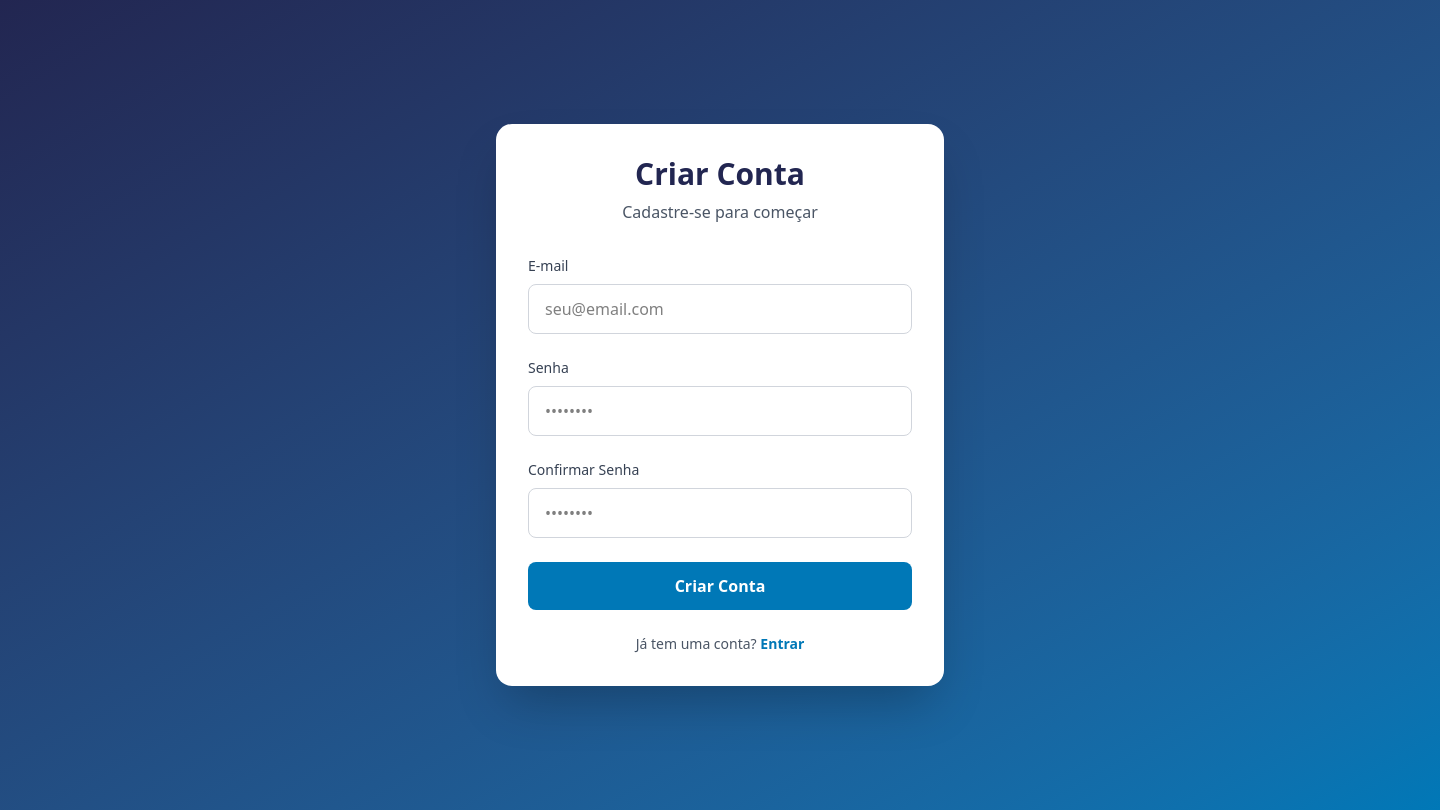
Register Page › validates password length
Type "test@test.com" into the field labelled "E-mail" at (720, 309), box [528,284,912,334]
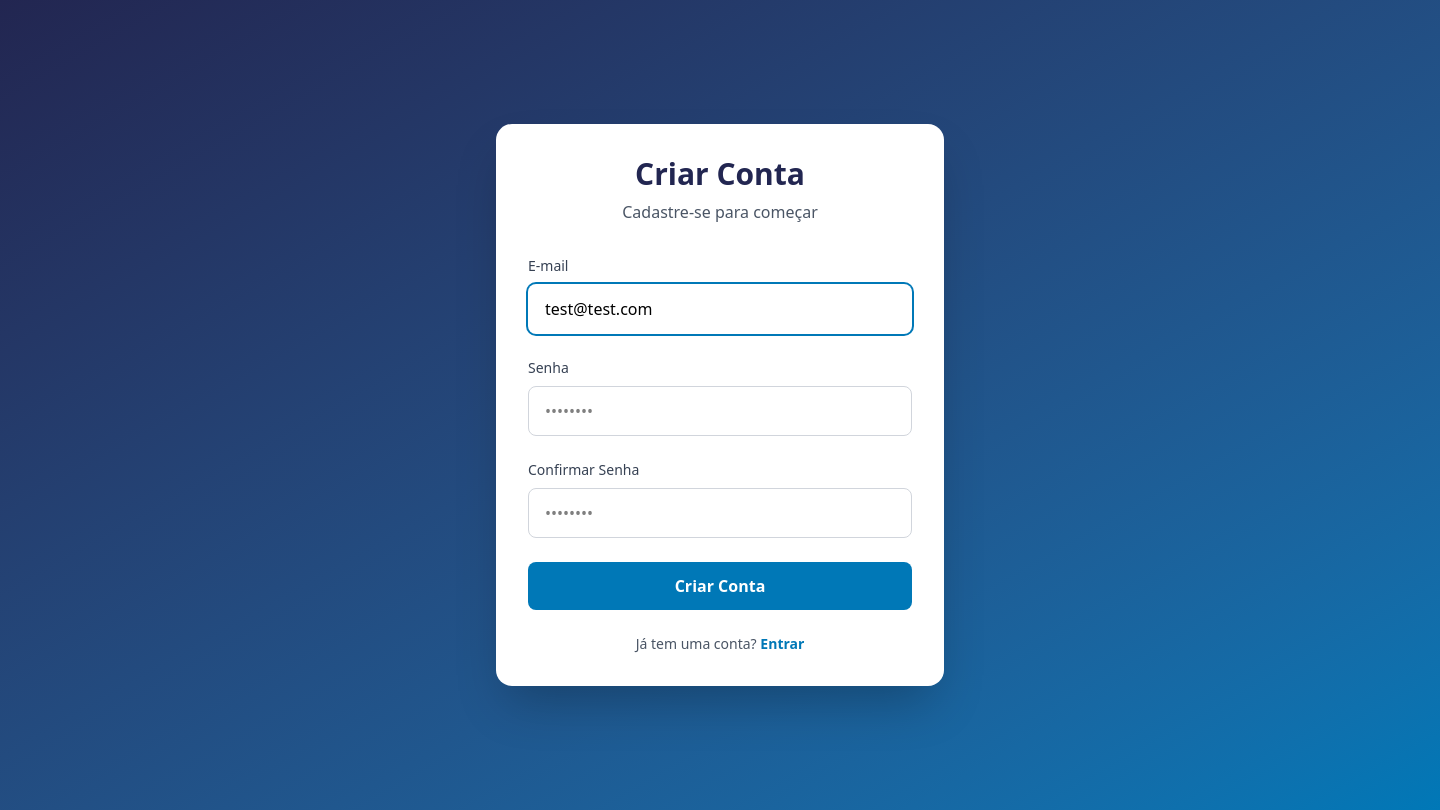
Type "12345" into the password field with placeholder "••••••••" at (720, 411), box [528,386,912,436]
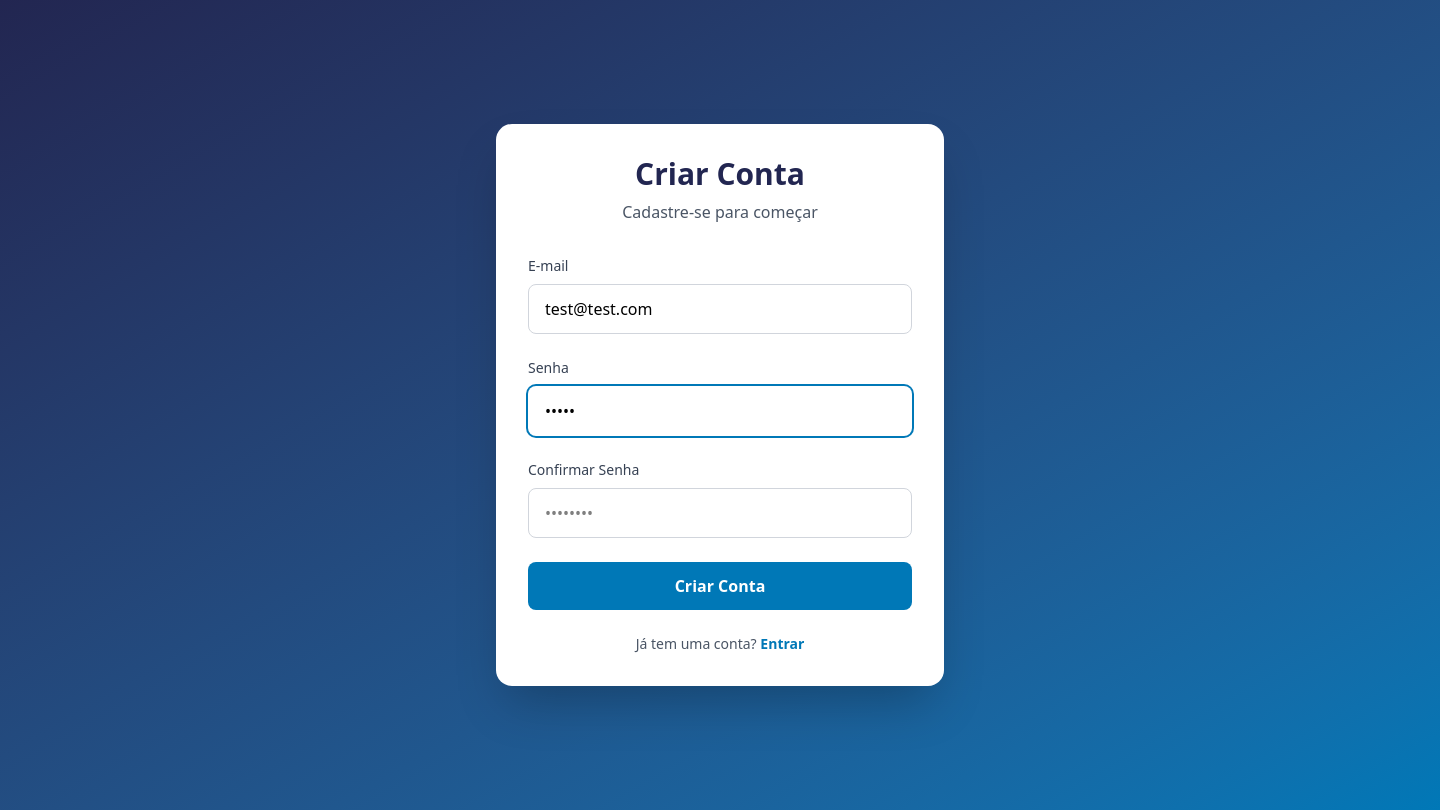
Type "12345" into the password field labelled "Confirmar Senha" at (720, 513), box [528,488,912,538]
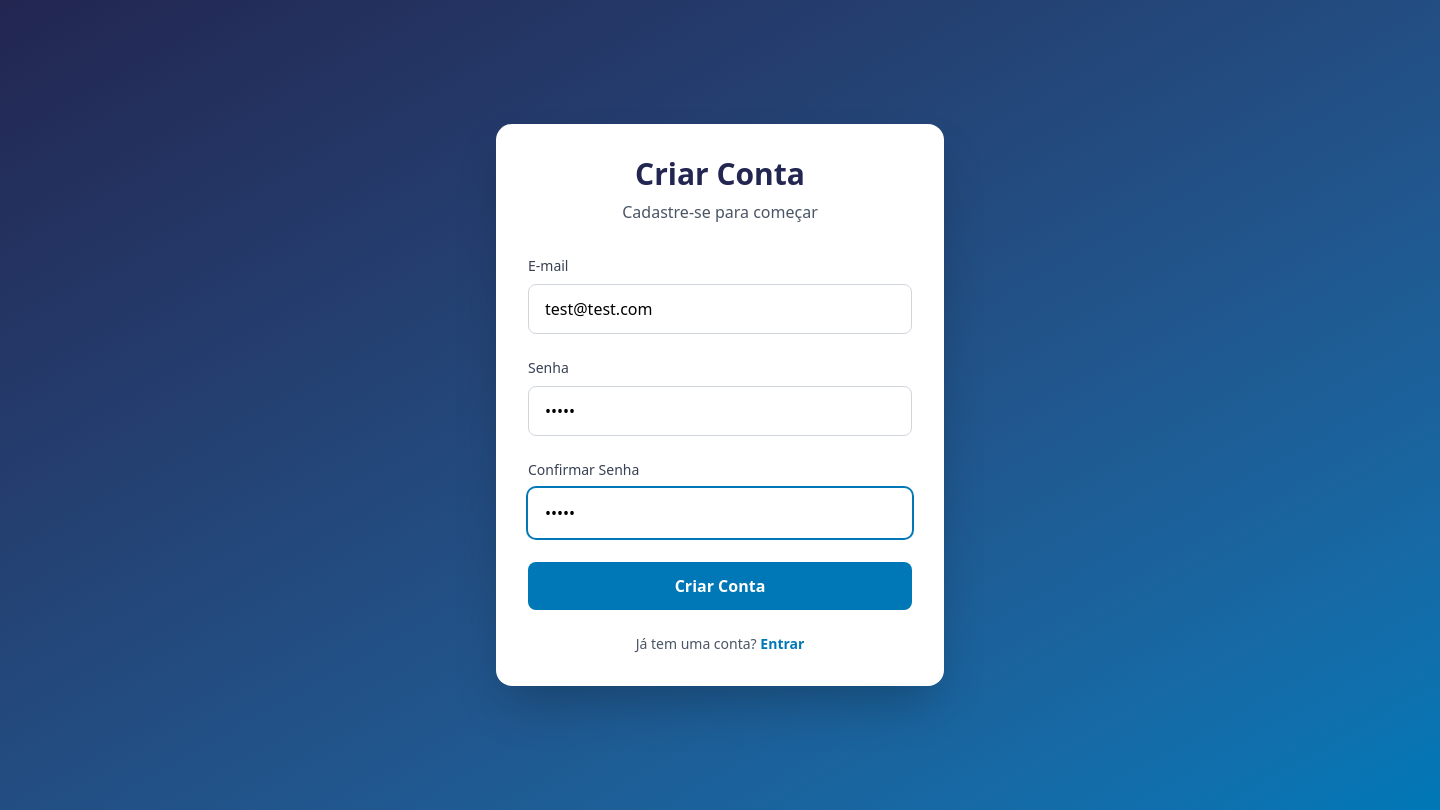
Click the button "Criar Conta" at (720, 586), box [528,562,912,610]
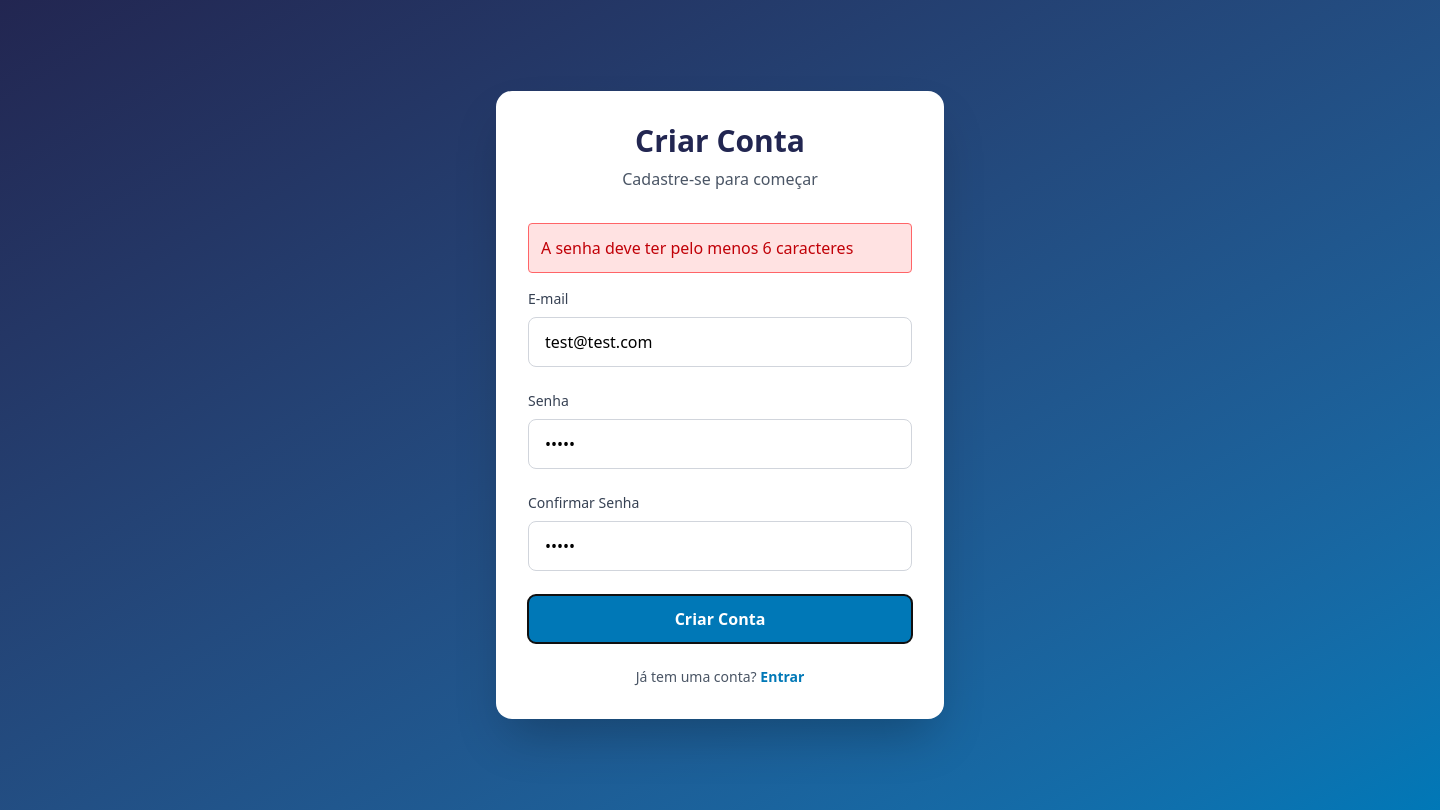
Check: the text "A senha deve ter pelo menos 6 caracteres" is shown, box [528,223,912,273]
